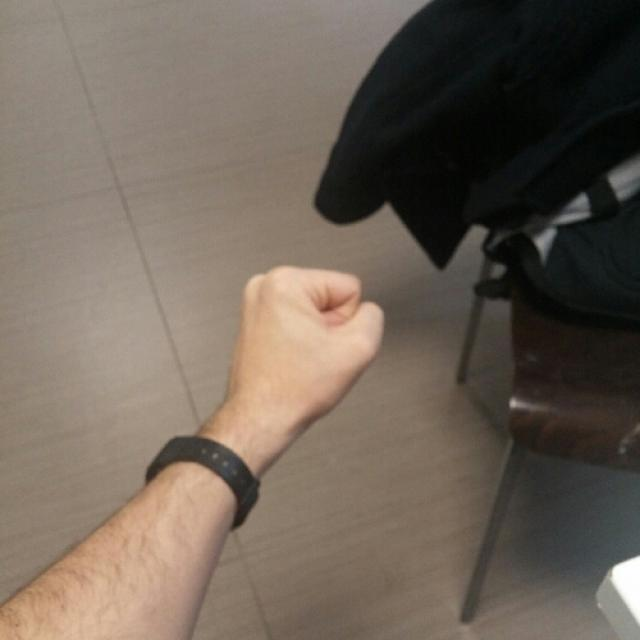rock: (232, 264, 388, 420)
